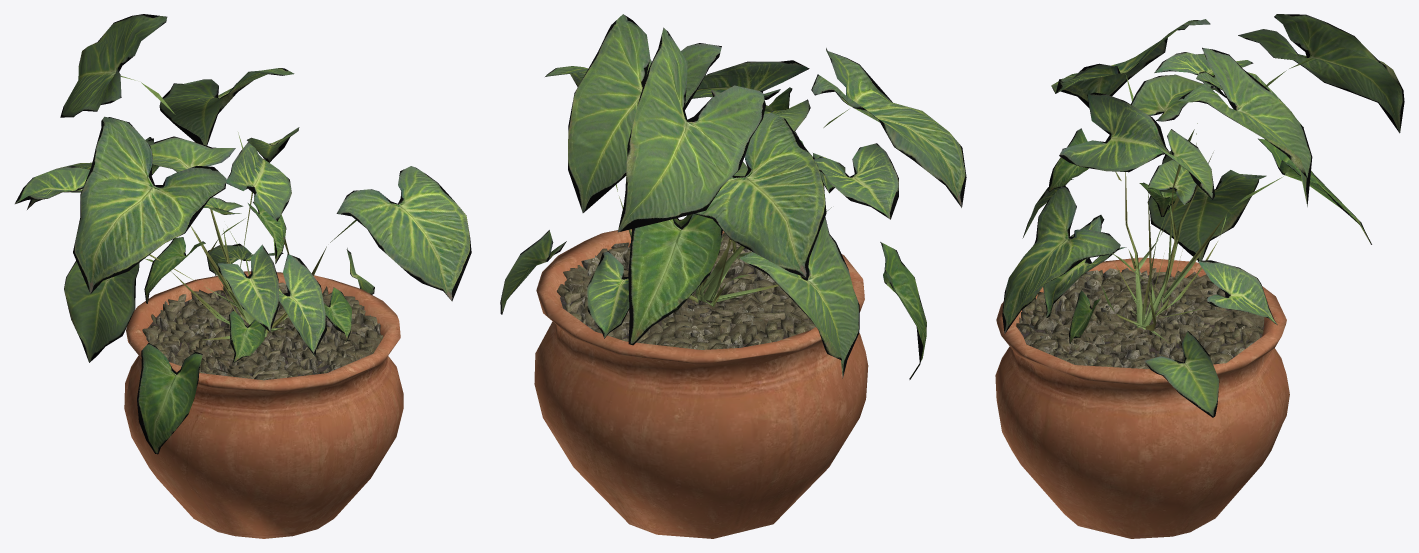
File: plant_big.glb
3 views of the same model, side by side, from view 1: azimuth 30°, elevation 25°; view 2: azimuth 150°, elevation 25°; view 3: azimuth 270°, elevation 25° (orthographic). The views are drawn at different scales.
Parts seen in each view (by area): view 1: plant_big; view 2: plant_big; view 3: plant_big.
Part boxes in pixels (bbox=[...]): plant_big: bbox=[15, 14, 471, 538]; plant_big: bbox=[500, 14, 966, 538]; plant_big: bbox=[995, 14, 1404, 538].
Bounding box in the file's own units: 0.7012 × 0.8395 × 0.6541.
Materials: 2 (2 with a texture image).
